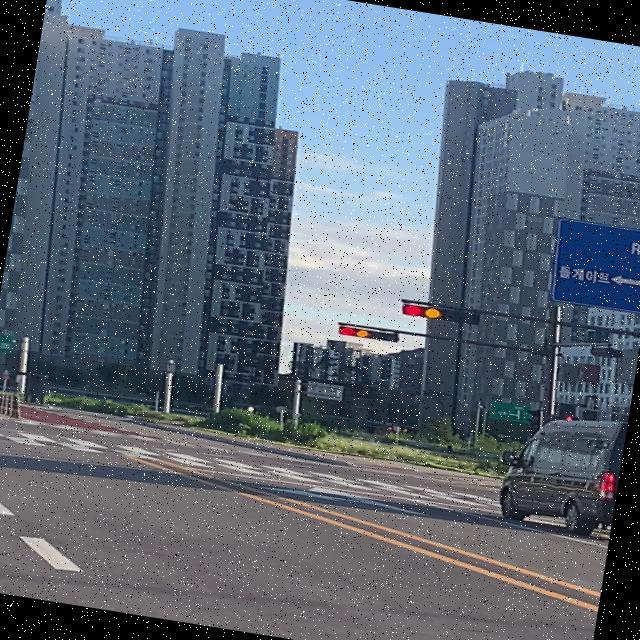yellow_light: (399, 302, 478, 326), (336, 326, 399, 344)
